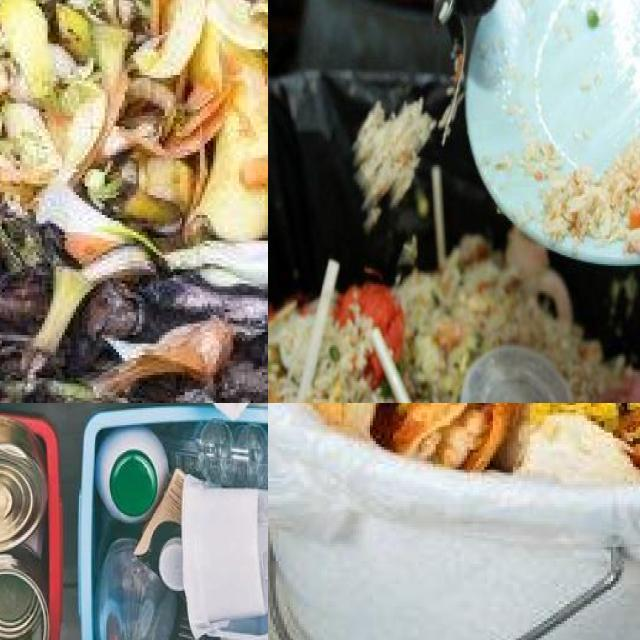Garbage: (268, 168, 640, 403), (87, 423, 268, 640), (545, 137, 640, 253), (0, 546, 49, 640)
Glass_bottle: (97, 538, 177, 640)
Plastic: (181, 476, 268, 640), (461, 346, 573, 403), (171, 594, 216, 640)
Plastic_Straw: (297, 259, 339, 403), (296, 259, 337, 403), (372, 327, 413, 403), (430, 166, 446, 269)
Plastic_bottle: (168, 419, 268, 490), (96, 427, 168, 523)
contaminated_waste: (96, 427, 168, 523)
